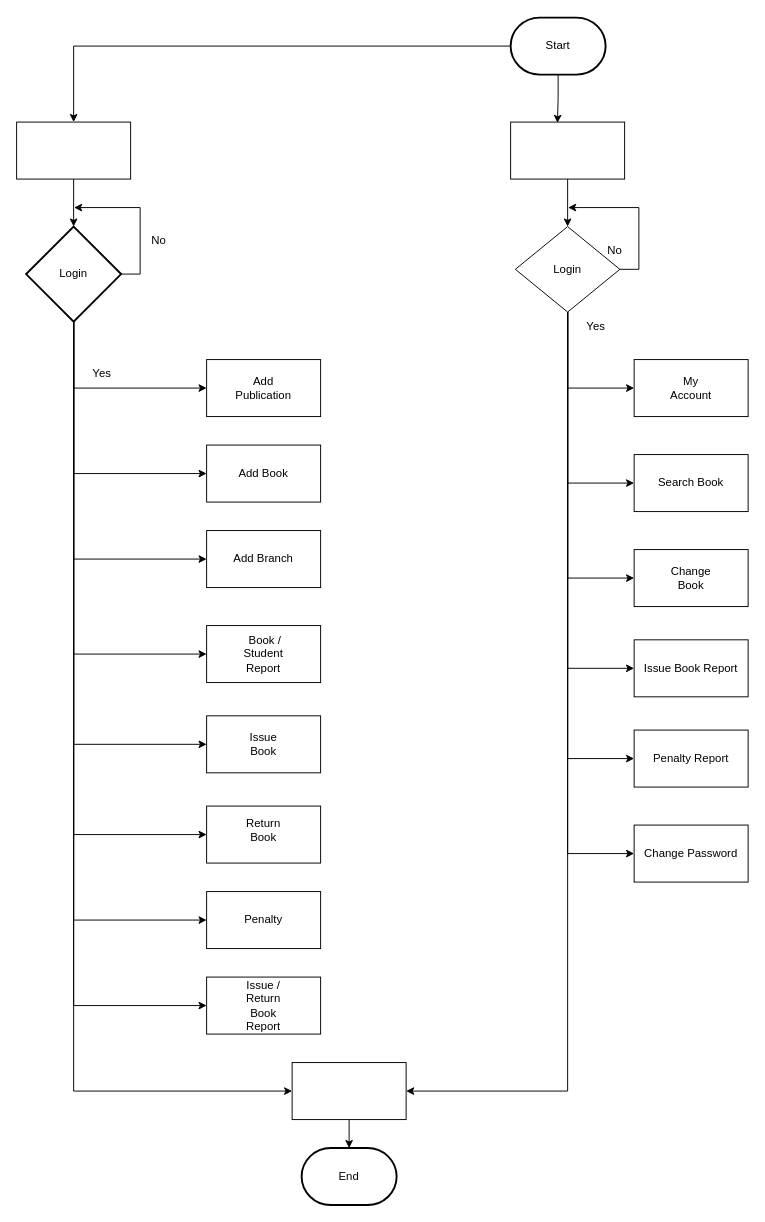
Image size: 765x1222. Some labels were removed from this diagram. The box of each missing label's shape, as (x1, y1, x2, y2) in pixels:
Admin: (510, 121, 625, 179)
Logout: (291, 1062, 406, 1120)
User: (16, 121, 131, 179)
